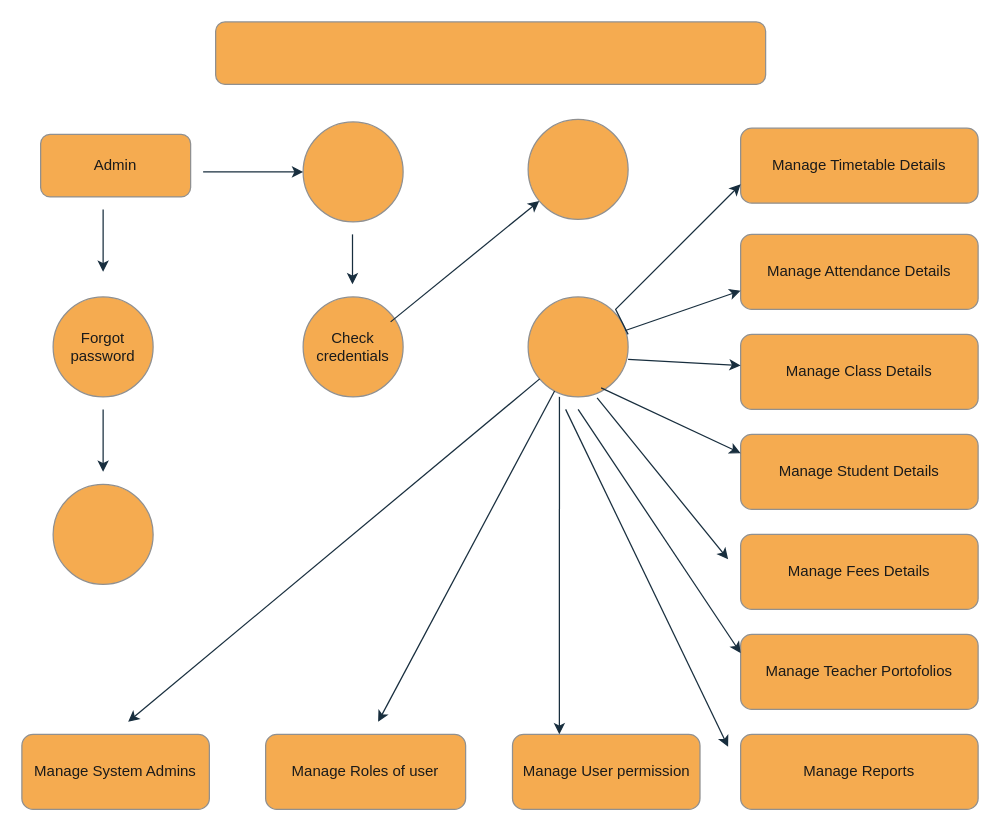
This 1000x831 diagram has some shape labels left out. Each missing label, with the centre of its shape:
Check Roles of access: (x=577, y=168)
Login to system: (x=352, y=171)
Manage Modules: (x=577, y=346)
Send Email to user: (x=102, y=533)
STUDENT INFORMATION SYSTEM: (x=490, y=52)
